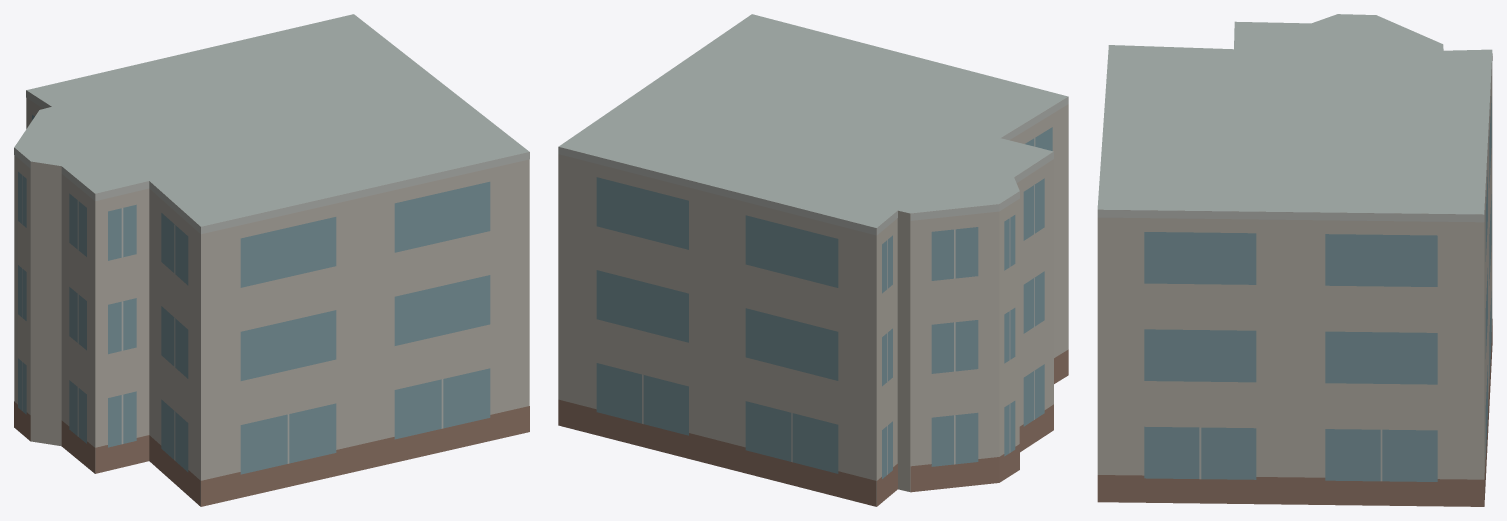
File: survey-upis-32547162.glb
3 views of the same model, side by side, from view 1: azimuth 30°, elevation 25°; view 2: azimuth 150°, elevation 25°; view 3: azimuth 270°, elevation 25° (orthographic). The views are drawn at different scales.
Parts seen in each view (by area): view 1: survey-upis-32547162.tmp; view 2: survey-upis-32547162.tmp; view 3: survey-upis-32547162.tmp.
Part boxes in pixels (x1,y1,x2,y2): survey-upis-32547162.tmp: (14,14,529,506); survey-upis-32547162.tmp: (558,14,1068,506); survey-upis-32547162.tmp: (1097,14,1492,506).
Bounding box in the file's own units: 13.46 × 9.15 × 11.21.
